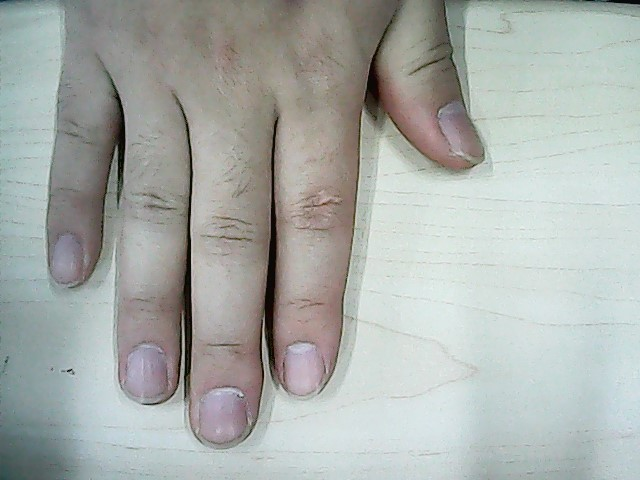nail: (435, 100, 485, 164), (199, 384, 247, 450), (121, 340, 168, 404), (281, 342, 326, 400), (45, 231, 85, 290)
